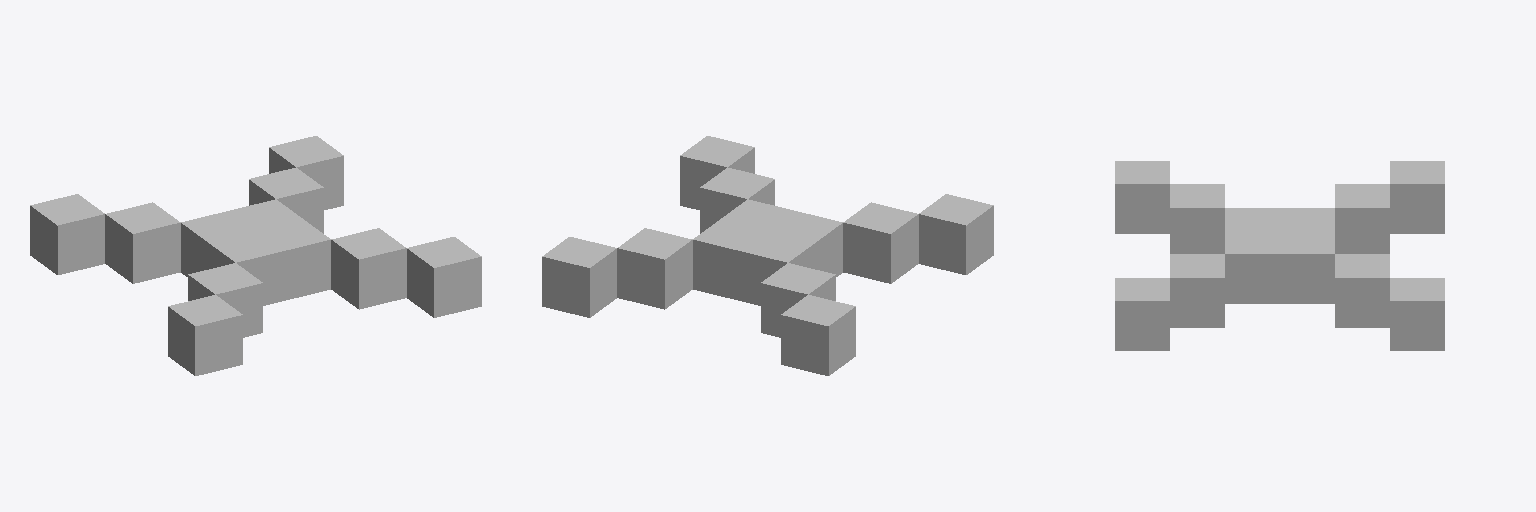
The model's file is scout_heli_rotor.obj.
The picture shows the model from 3 angles: view 1: azimuth 30°, elevation 25°; view 2: azimuth 150°, elevation 25°; view 3: azimuth 270°, elevation 25°; orthographic projection.
Parts seen in each view (by area): view 1: object 1; view 2: object 1; view 3: object 1.
Part boxes in pixels (bbox=[...]): object 1: bbox=[30, 136, 481, 375]; object 1: bbox=[542, 136, 993, 375]; object 1: bbox=[1115, 161, 1444, 350].
Bounding box in the file's own units: 0.6 × 0.1 × 0.6.